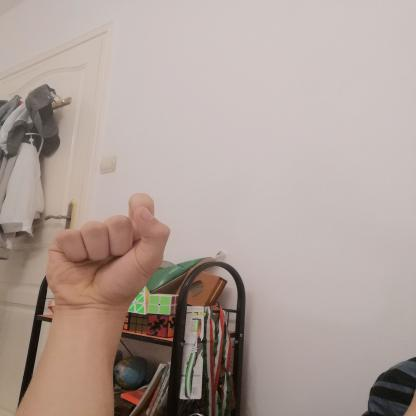FAA: (33, 184, 182, 318)
